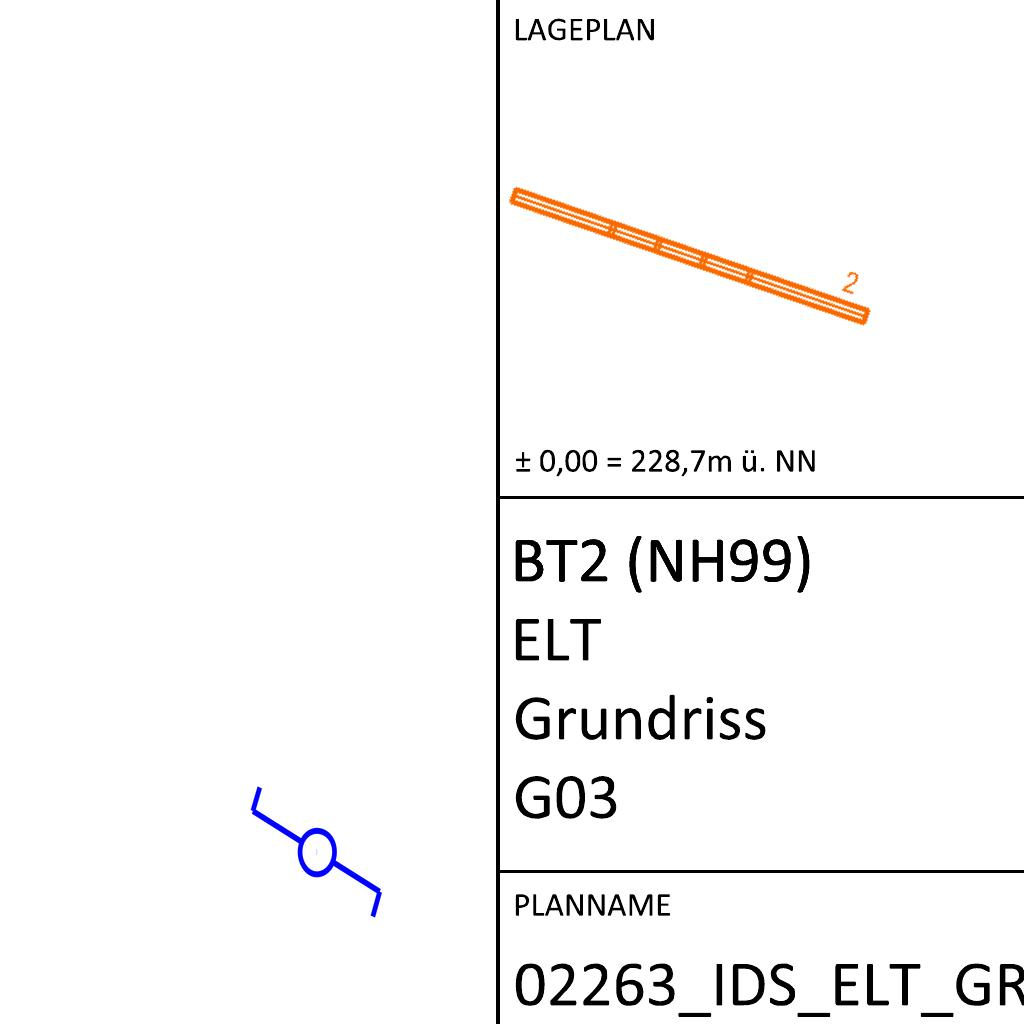Ambulanz_Pendelleuchte_LED: (501, 154, 886, 334)
Wechselschalter: (243, 782, 387, 939)
